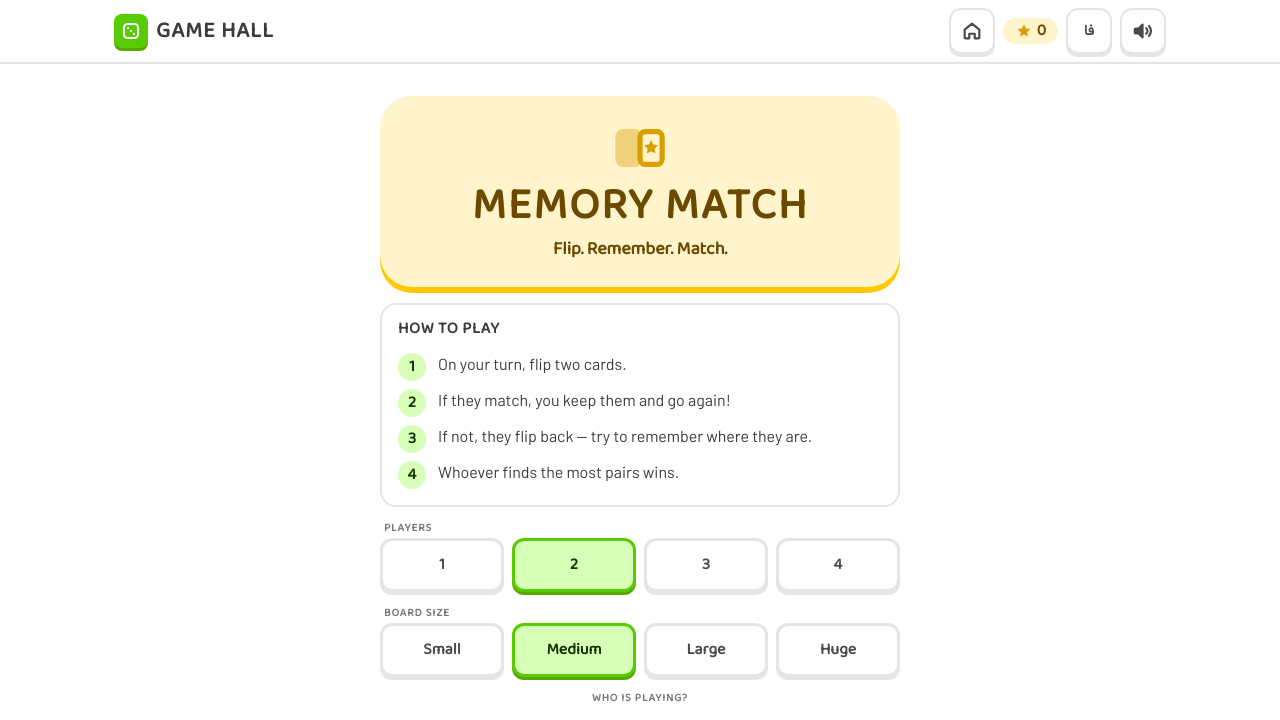
Test: Memory — setup › deals the chosen board size
Click the radio button labelled "Small": (442, 650) left=380, top=623, right=504, bottom=677
(page scrolled)
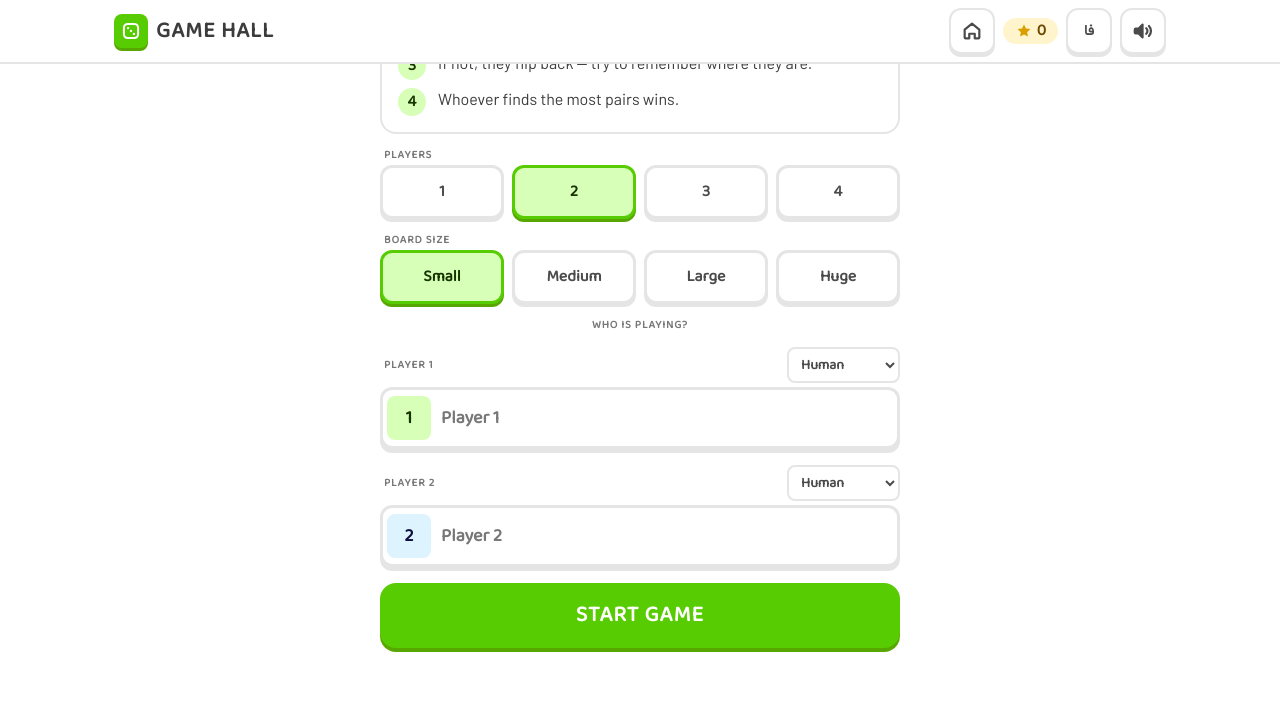
Click the button "Start game": (640, 616) left=380, top=583, right=900, bottom=648
(page scrolled)
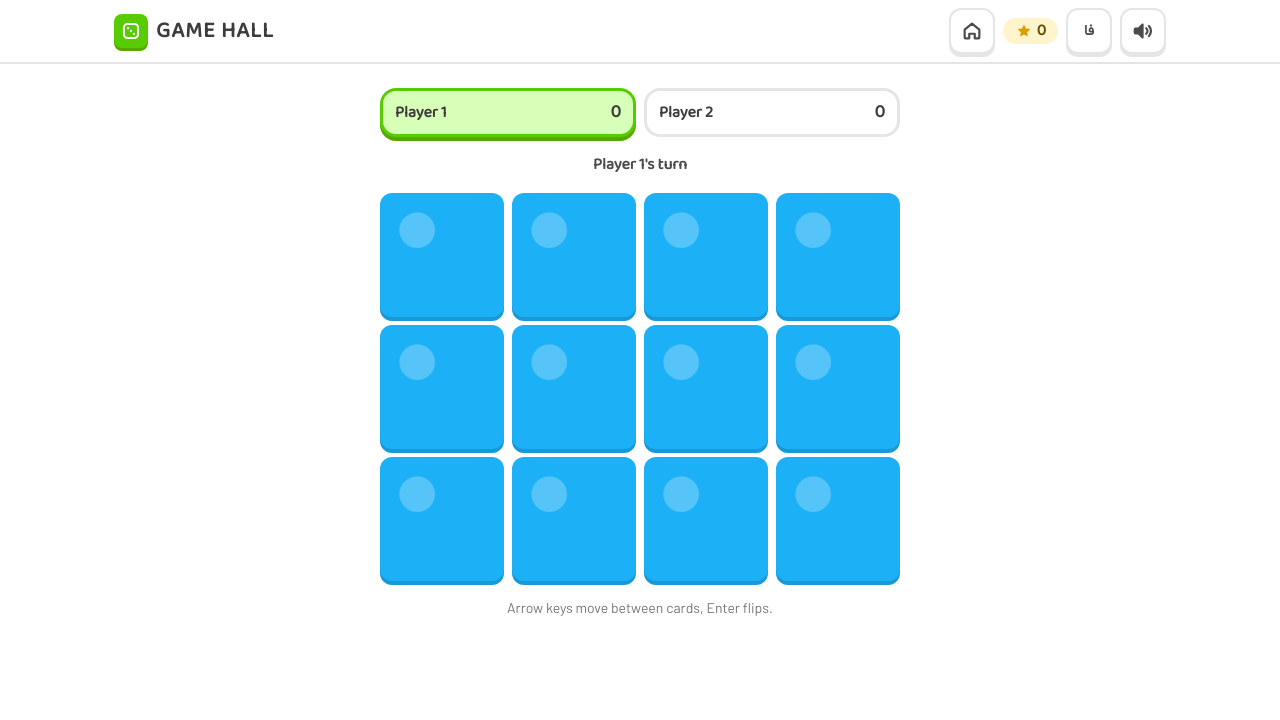
Result: the number of buttons with class "mem-card" is 12
